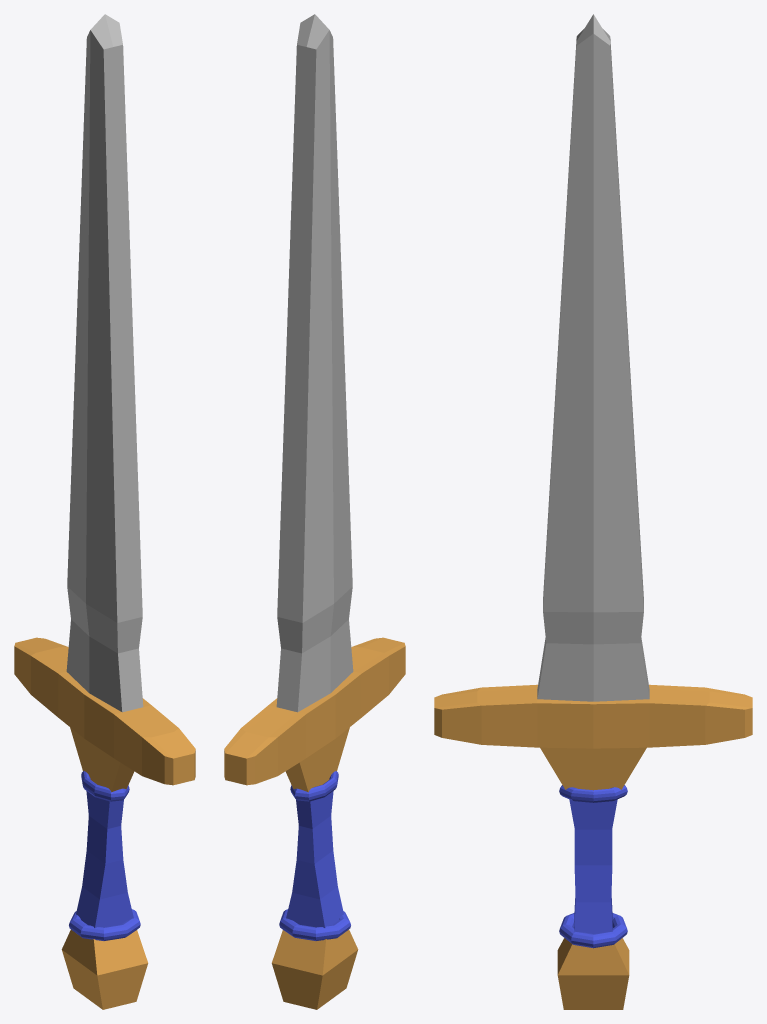
File: sword-by-foxxo-company-TImLjwCuiL.glb
3 renders of one model, left to right at view 1: azimuth 30°, elevation 25°; view 2: azimuth 150°, elevation 25°; view 3: azimuth 270°, elevation 25°, orthographic.
Parts seen in each view (by area): view 1: Sword; view 2: Sword; view 3: Sword.
Part boxes in pixels (<box>): Sword: <box>14,14,195,1009</box>; Sword: <box>224,14,405,1009</box>; Sword: <box>434,14,752,1009</box>.
Size of the model in its own units: 0.5451 by 8.17 by 2.39.
